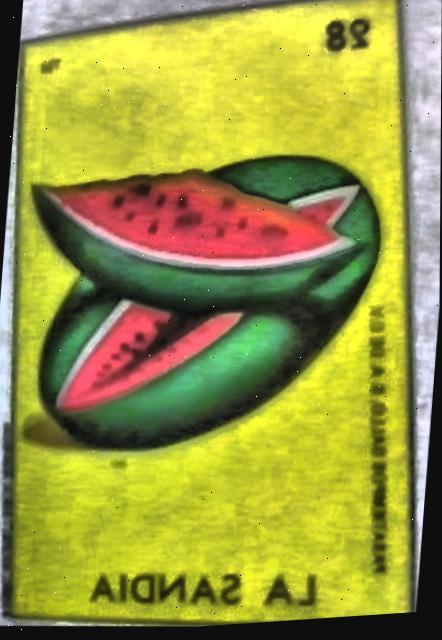La Sandia: (2, 0, 415, 625)
